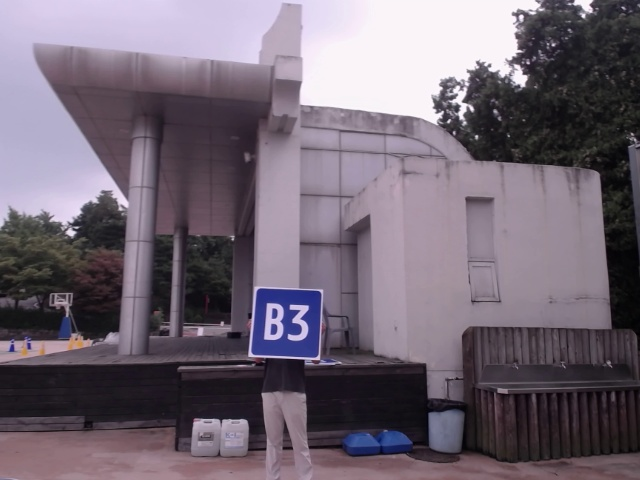delivery_b3: (253, 287, 322, 360)
